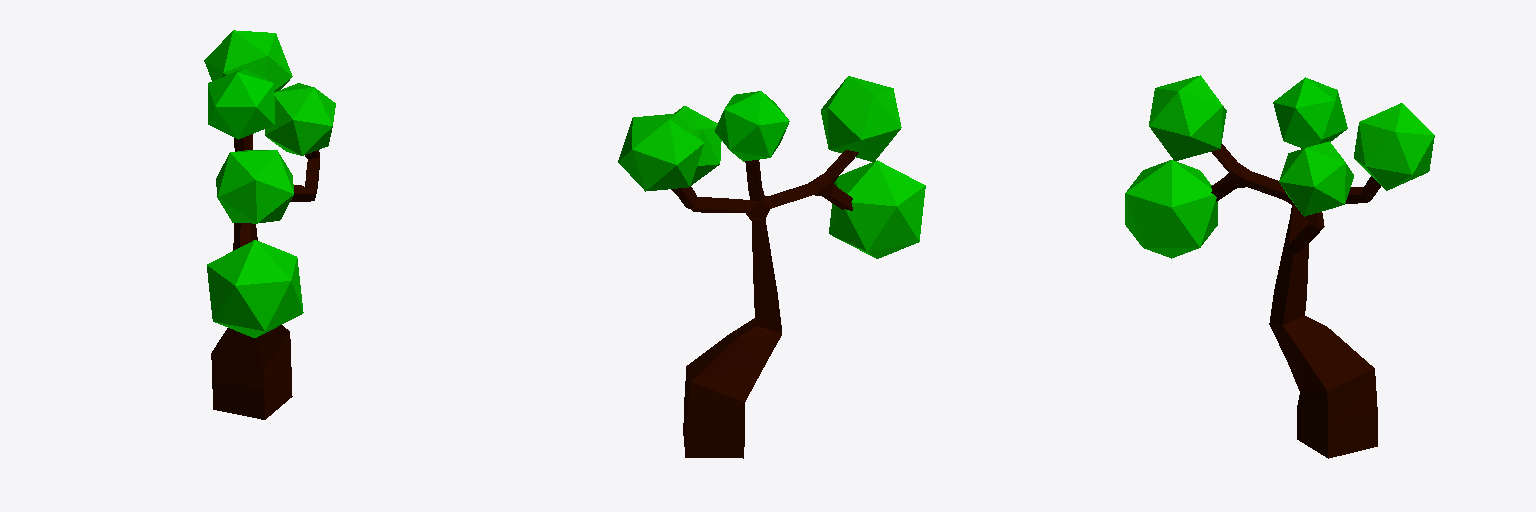
File: Tree.obj
The picture shows the model from 3 angles: view 1: azimuth 30°, elevation 25°; view 2: azimuth 150°, elevation 25°; view 3: azimuth 270°, elevation 25°; orthographic projection.
Visible parts, largest first — view 1: Икосфера, Cube, Икосфера.001, Икосфера.003, Икосфера.002; view 2: Cube, Икосфера, Икосфера.002, Икосфера.001, Икосфера.003; view 3: Cube, Икосфера, Икосфера.002, Икосфера.001, Икосфера.003.
Boxes of the visible parts, x1,y1,x2,y2 form: Икосфера: [207, 83, 335, 337]; Cube: [211, 134, 319, 419]; Икосфера.001: [216, 150, 293, 223]; Икосфера.003: [208, 68, 274, 139]; Икосфера.002: [204, 30, 292, 91]; Cube: [671, 150, 858, 458]; Икосфера: [674, 106, 925, 258]; Икосфера.002: [618, 113, 703, 191]; Икосфера.001: [821, 76, 901, 161]; Икосфера.003: [715, 91, 789, 161]; Cube: [1211, 144, 1380, 458]; Икосфера: [1125, 141, 1353, 258]; Икосфера.002: [1354, 103, 1434, 190]; Икосфера.001: [1149, 75, 1226, 160]; Икосфера.003: [1273, 77, 1347, 148].
Bounding box in the file's own units: 4.12 × 7.11 × 5.67.